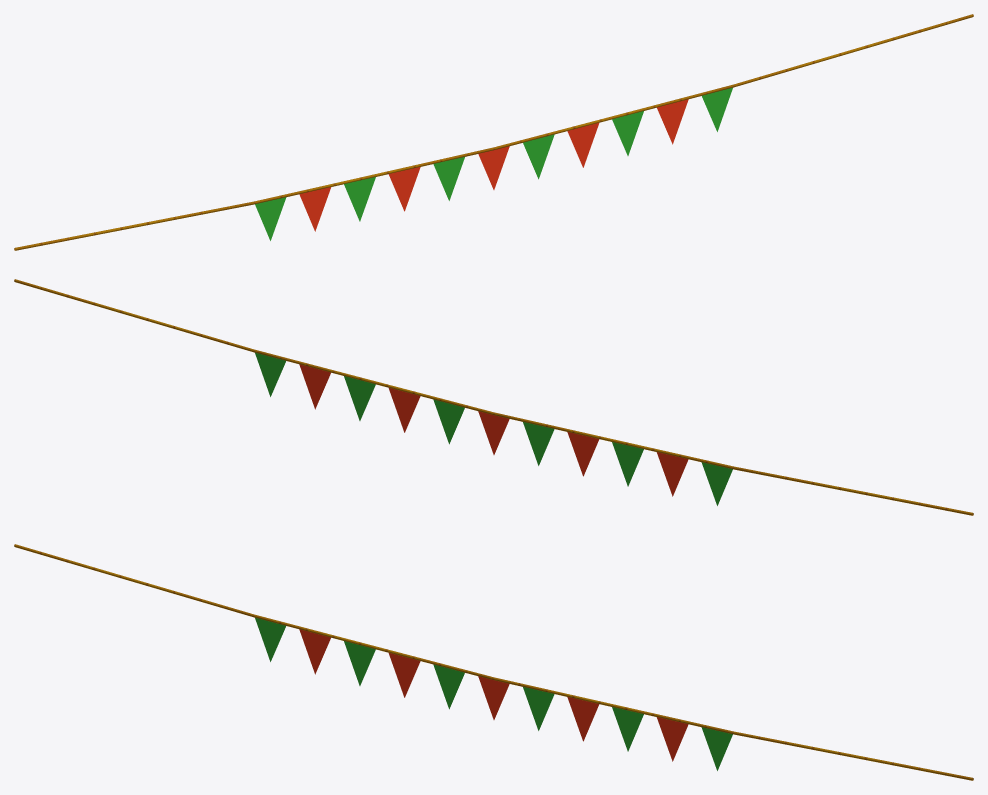
File: HOS0910010.fbx
The picture shows the model from 3 angles, top to bottom: view 1: azimuth 30°, elevation 25°; view 2: azimuth 150°, elevation 25°; view 3: azimuth 330°, elevation 25°; orthographic projection.
Visible parts, largest first — view 1: smHOS0910010; view 2: smHOS0910010; view 3: smHOS0910010.
Part boxes in pixels (bbox=[...]): smHOS0910010: bbox=[14, 14, 973, 250]; smHOS0910010: bbox=[14, 279, 973, 515]; smHOS0910010: bbox=[14, 544, 973, 780].
Bounding box in the file's own units: 640 × 38.22 × 1.97.
Materials: 1 (1 with a texture image).
